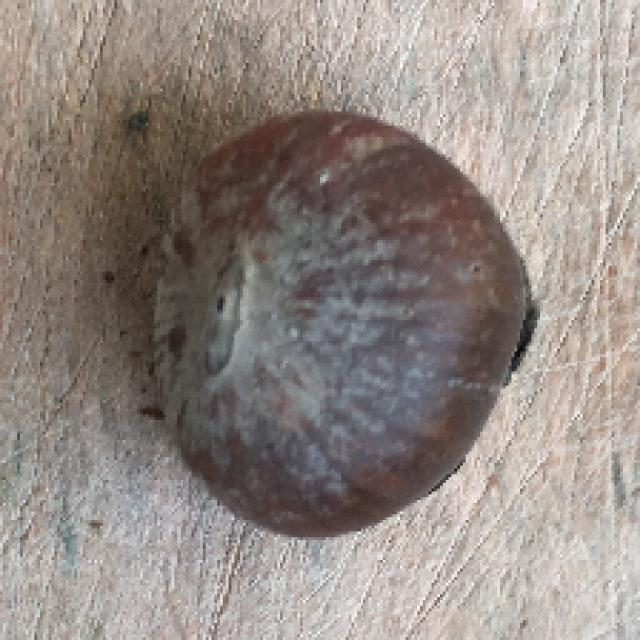damagedHazelnut: (139, 106, 535, 538)
